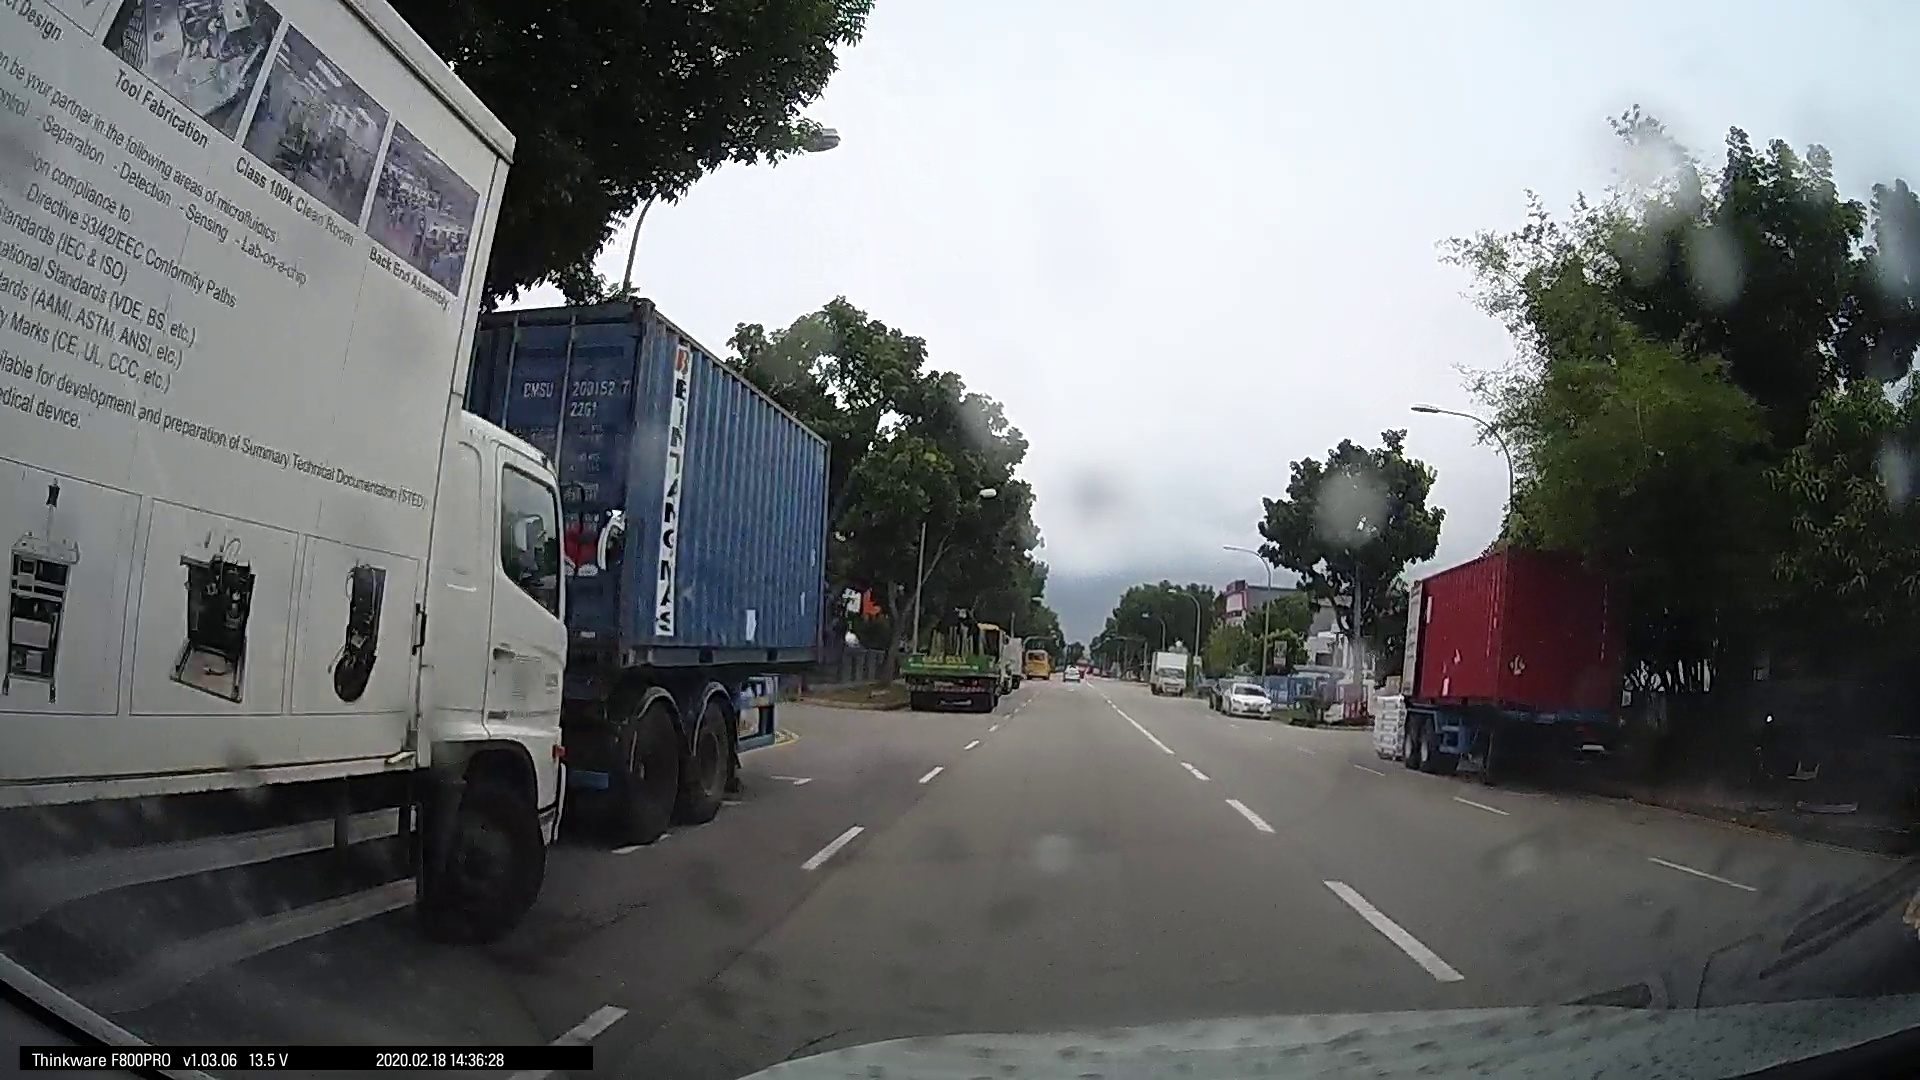Heavy Vehicle: (18, 1, 571, 988), (495, 280, 833, 829), (1390, 535, 1636, 782)
Light Vehicle: (1215, 673, 1273, 719), (1145, 647, 1189, 695)
